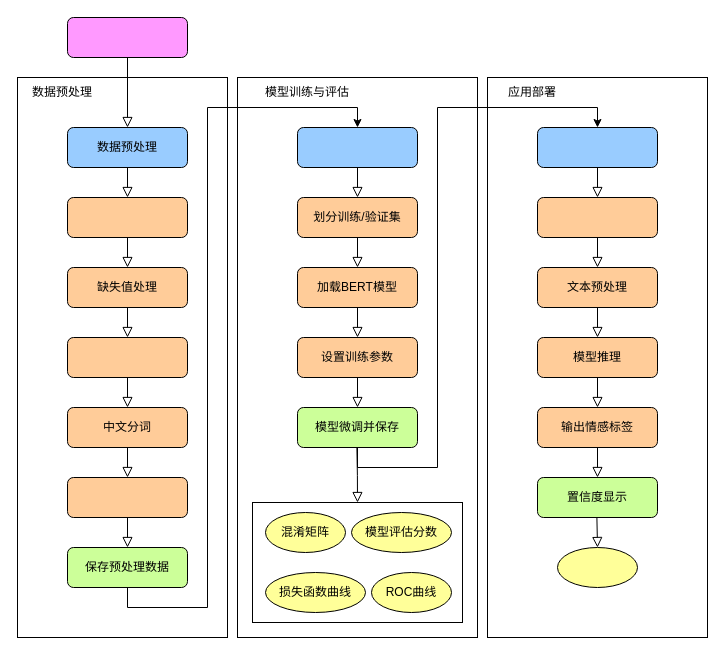
This 725x655 diagram has some shape labels left out. The centre of each missing label's shape, as x and y in pixels:
"分类报告" belongs at (x=597, y=567).
"加载微调模型" belongs at (x=597, y=217).
"原始评论数据" belongs at (x=127, y=37).
"去重处理" belongs at (x=127, y=217).
"情感分析应用" belongs at (x=597, y=147).
"文本清洗" belongs at (x=127, y=357).
"标签映射" belongs at (x=127, y=497).
"模型训练" belongs at (x=357, y=147).
